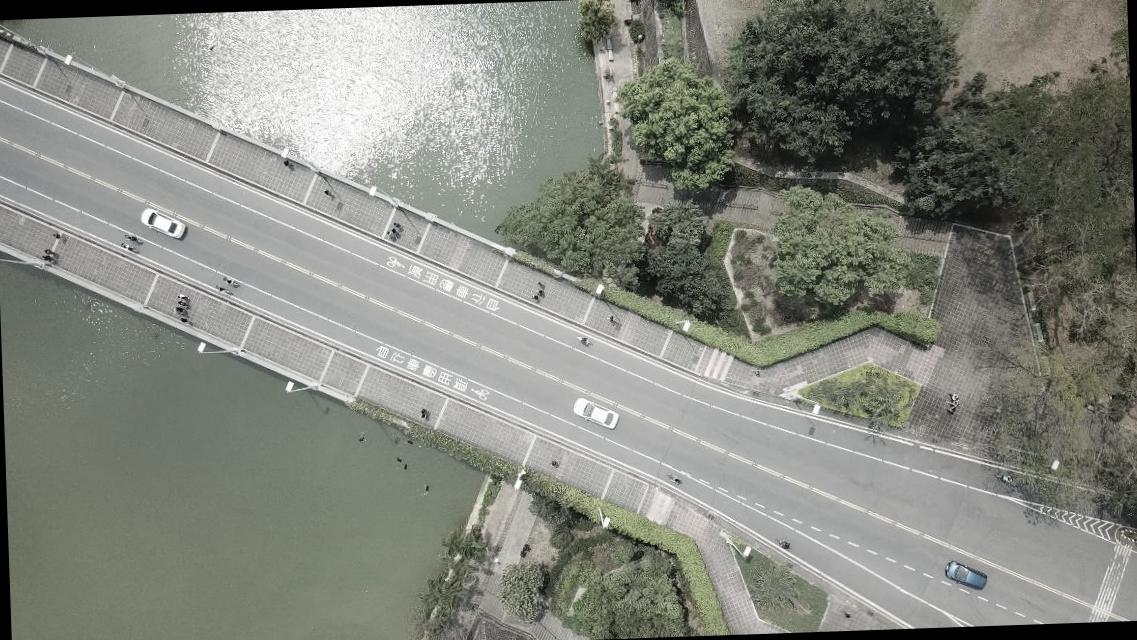vehicle: (141, 205, 186, 241), (572, 396, 619, 430), (944, 558, 989, 592)
